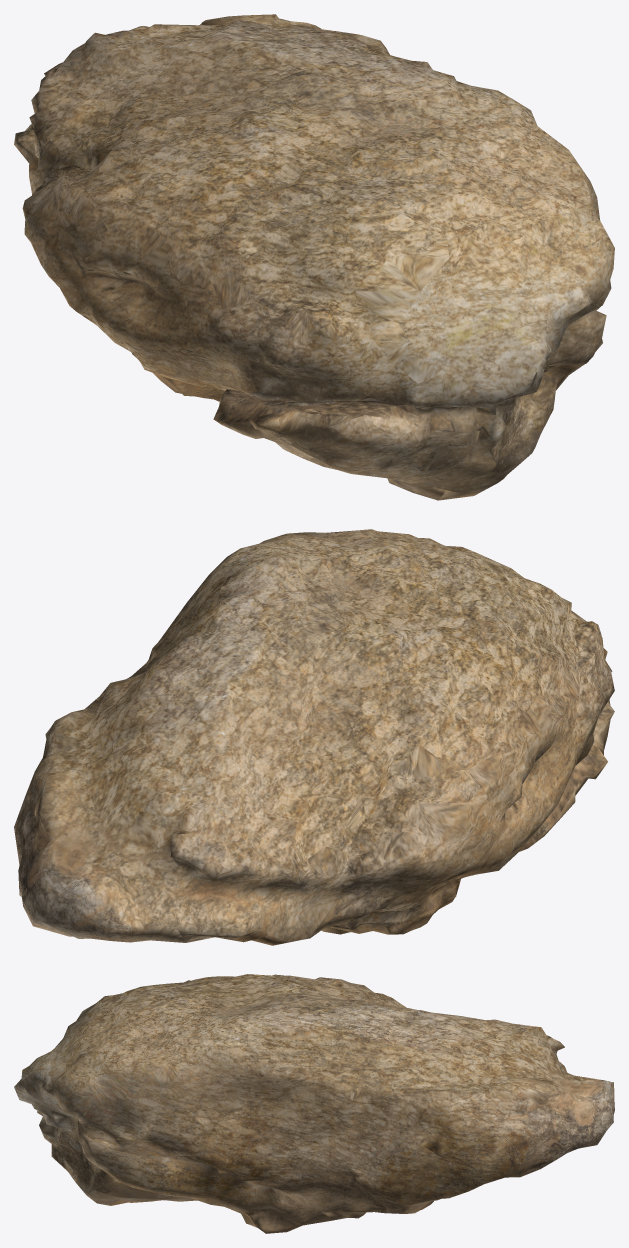
Rendered from nama_boulder_05.glb.
3 views of the same model, one above another, from view 1: azimuth 30°, elevation 25°; view 2: azimuth 150°, elevation 25°; view 3: azimuth 270°, elevation 25° (orthographic). The views are drawn at different scales.
Visible parts, largest first — view 1: nama_boulder_05; view 2: nama_boulder_05; view 3: nama_boulder_05.
Boxes of the visible parts, x1,y1,x2,y2 form: nama_boulder_05: (14,14,614,500); nama_boulder_05: (14,529,614,945); nama_boulder_05: (14,974,614,1233).
Size of the model in its own units: 1.14 by 0.8609 by 2.2.
1 material, 1 textured.
